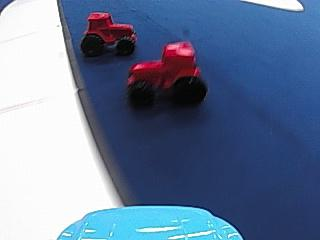Tracktor: (122, 39, 209, 106), (80, 9, 138, 57)
